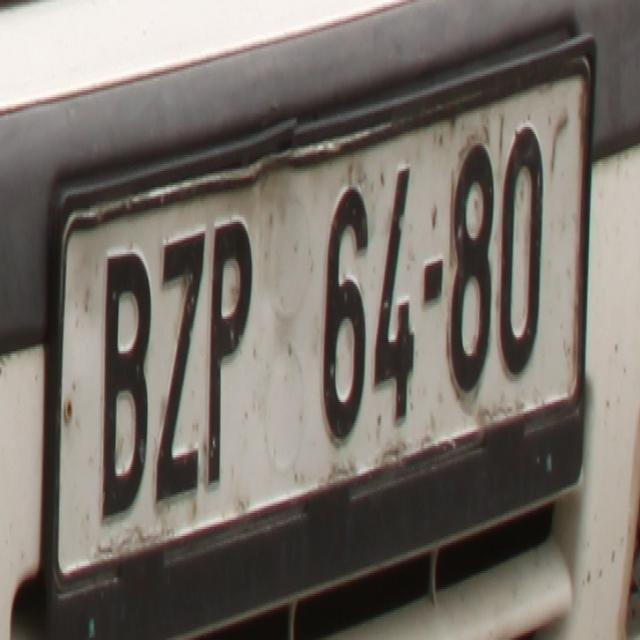0: (500, 122, 544, 379)
4: (372, 166, 416, 418)
6: (320, 185, 368, 448)
8: (451, 141, 494, 397)
B: (96, 254, 150, 518)
P: (208, 217, 254, 478)
Z: (158, 231, 204, 499)
